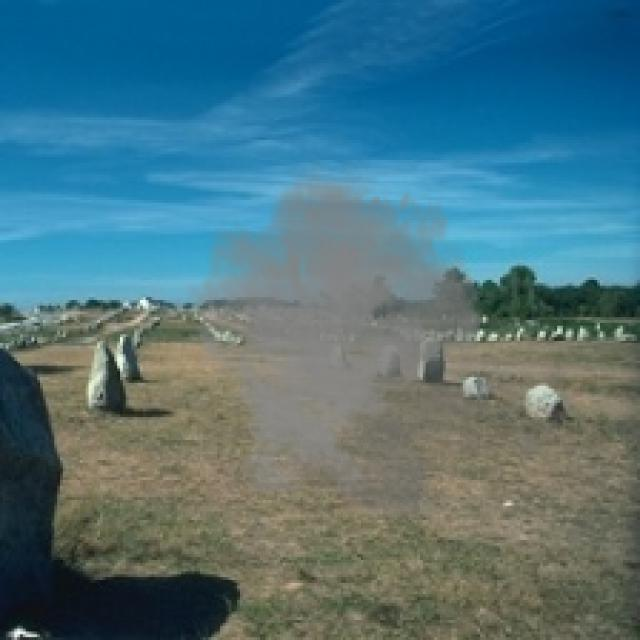smoke: (185, 152, 586, 537)
